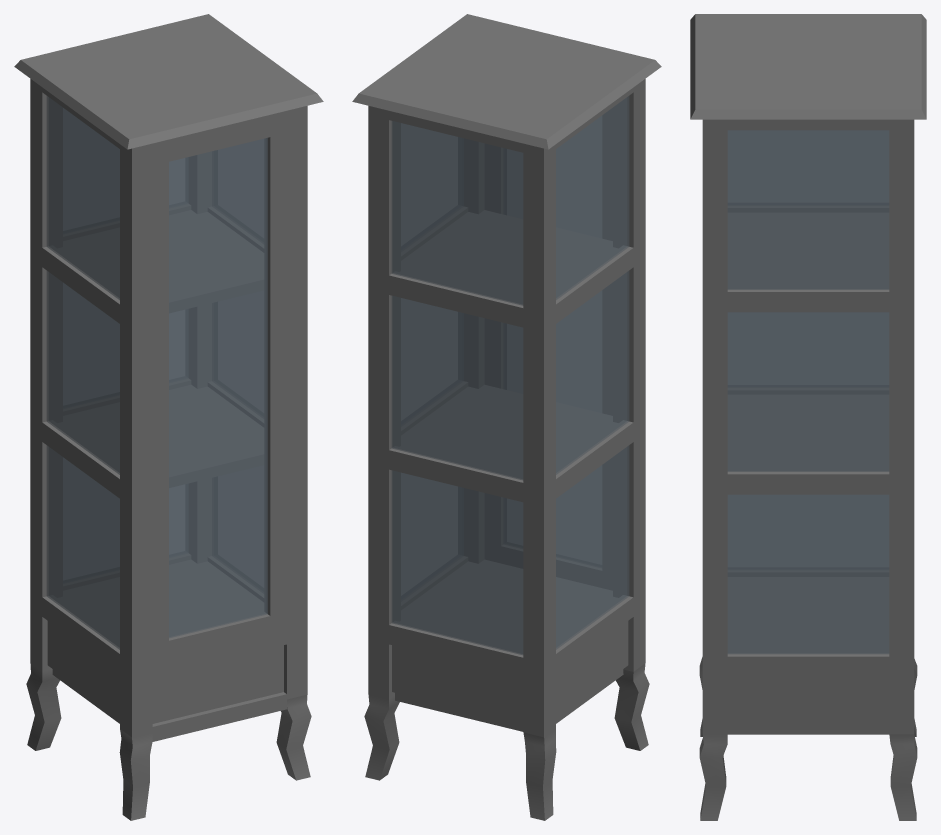
Rendered from cabinet.FBX.
The picture shows the model from 3 angles, left to right: view 1: azimuth 30°, elevation 25°; view 2: azimuth 150°, elevation 25°; view 3: azimuth 270°, elevation 25°; orthographic projection. The views are drawn at different scales.
Parts seen in each view (by area): view 1: cabinet; view 2: cabinet; view 3: cabinet.
Part boxes in pixels (left/top/right/bottom): cabinet: left=14, top=14, right=323, bottom=820; cabinet: left=352, top=14, right=661, bottom=820; cabinet: left=690, top=14, right=926, bottom=820.
Size of the model in its own units: 95 by 317 by 95.
